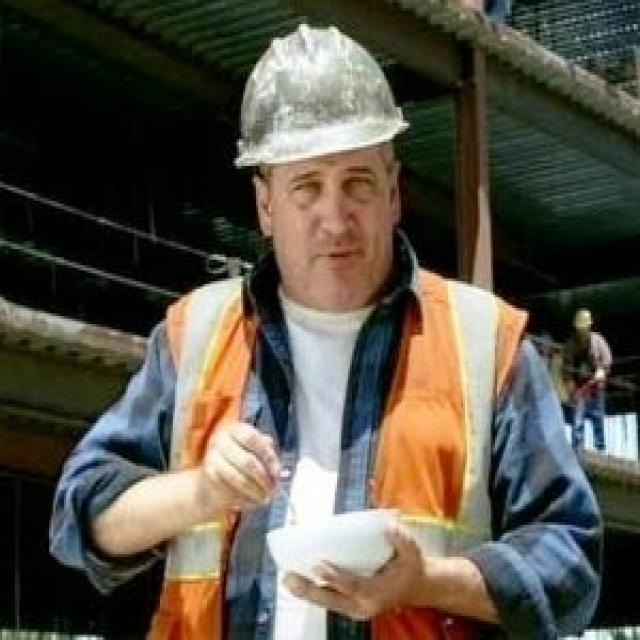Reflective-Jacket: (145, 262, 536, 638)
Safety-Helmet: (226, 19, 416, 182), (564, 298, 598, 330)
